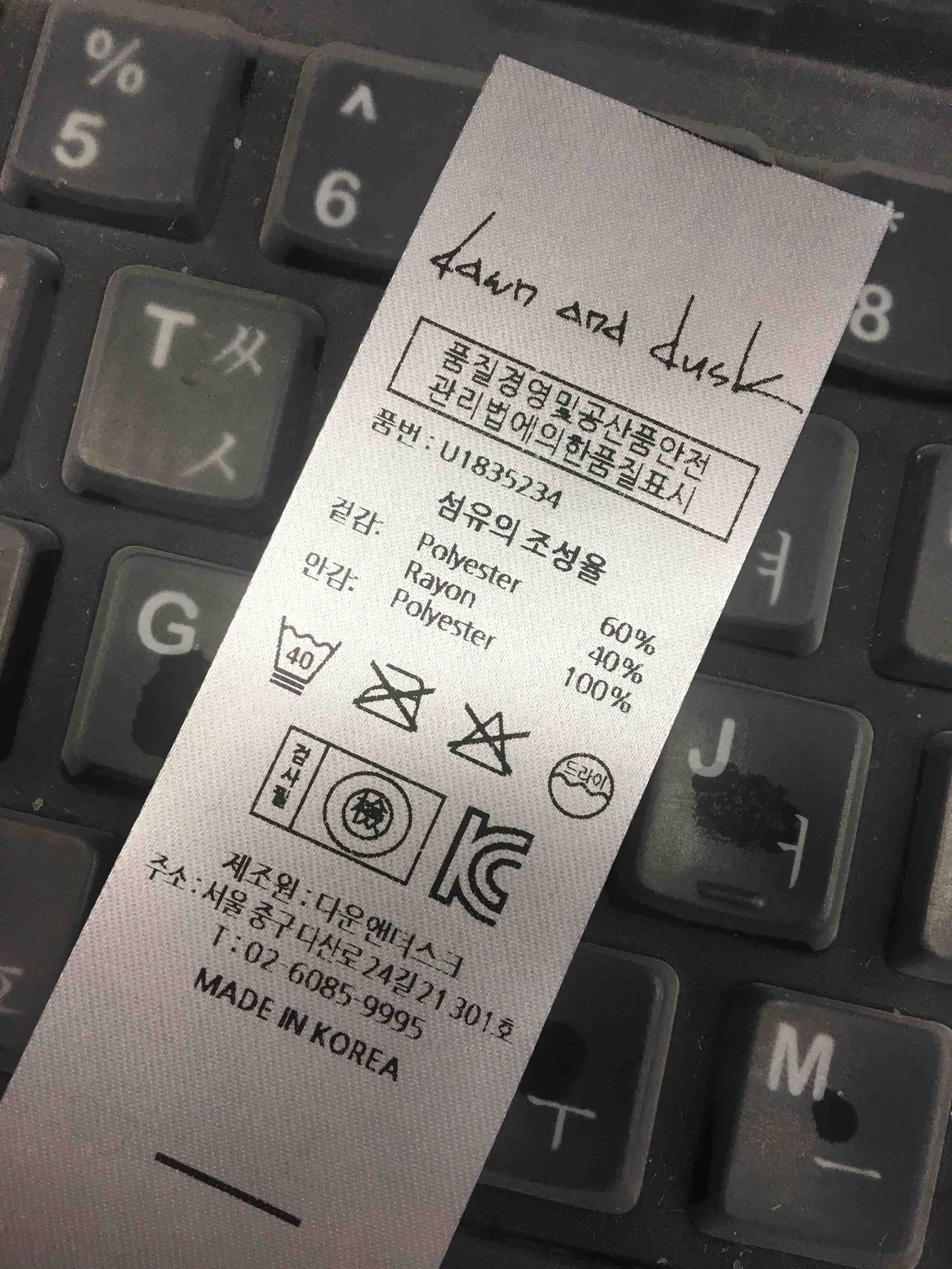ER_no_bleach: (443, 699, 527, 789)
ER_no_iron: (352, 652, 433, 741)
ER_wash_40_mild: (265, 607, 345, 705)
KR_dry_clean: (541, 740, 620, 833)
